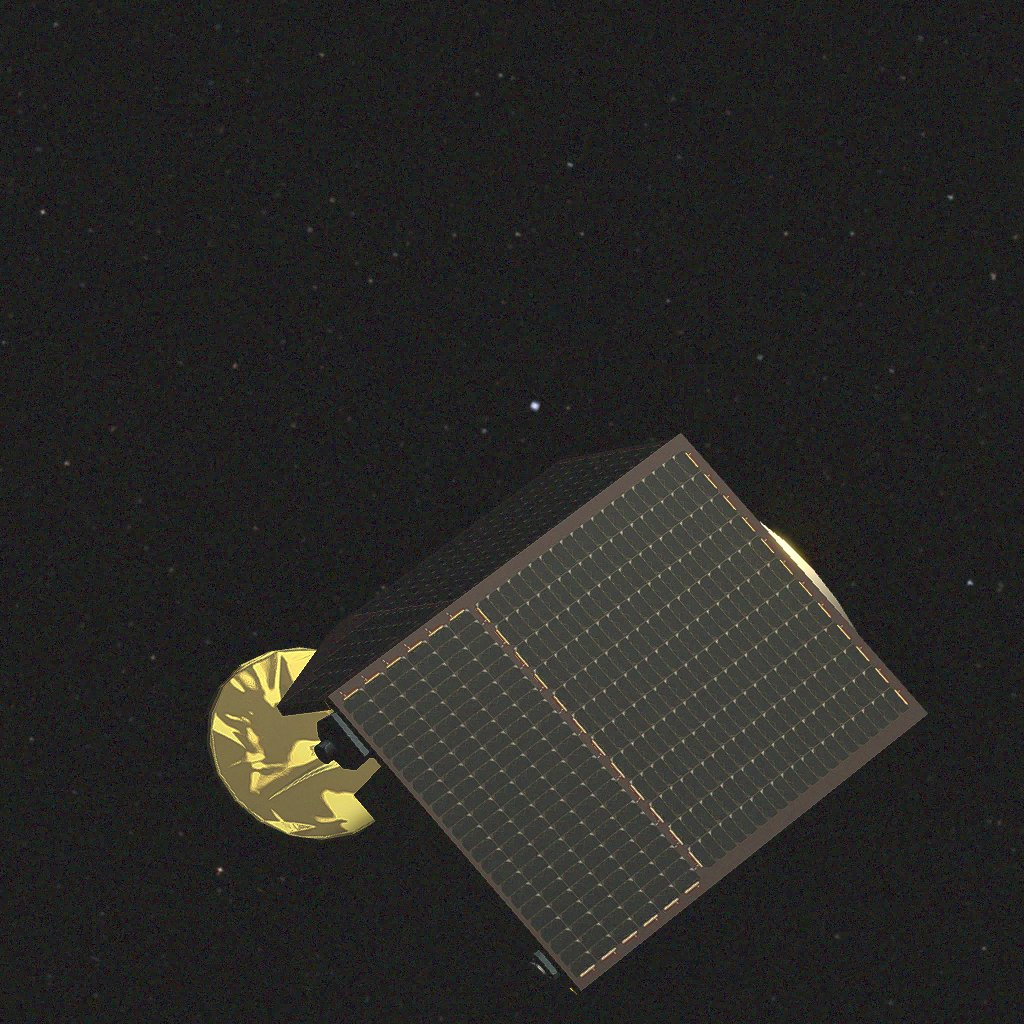cheops: (201, 433, 928, 1024)
